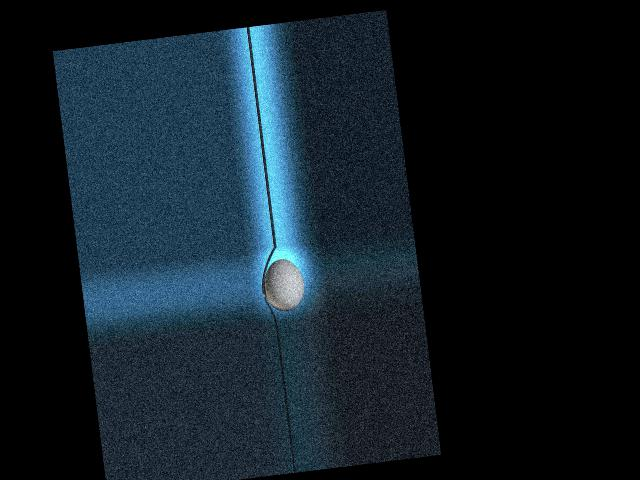egg: (261, 257, 306, 313)
